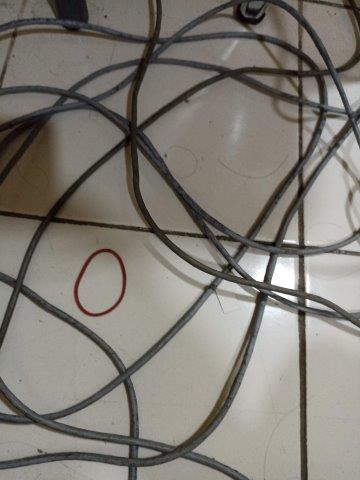karet: (73, 248, 127, 318)
